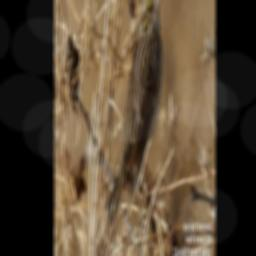Sparrow: (107, 0, 164, 249)
